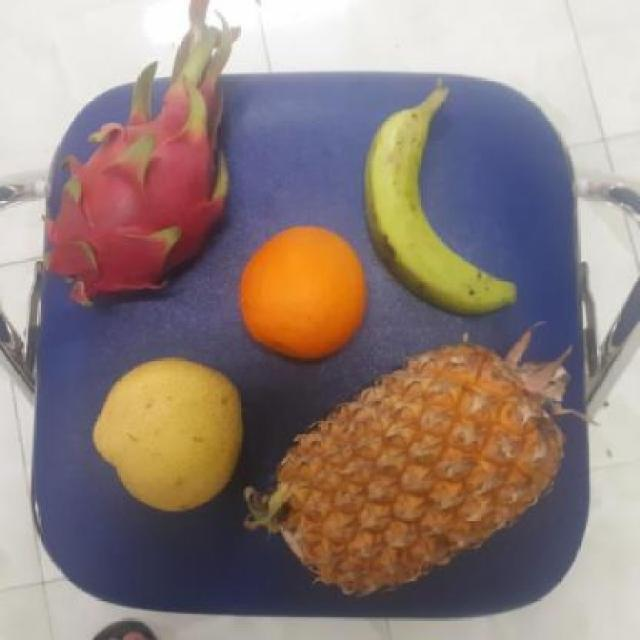banana: (364, 99, 521, 313)
dragon fruit: (46, 95, 245, 310)
oren: (236, 226, 367, 359)
pear: (90, 358, 253, 515)
pineapple: (264, 346, 582, 599)
